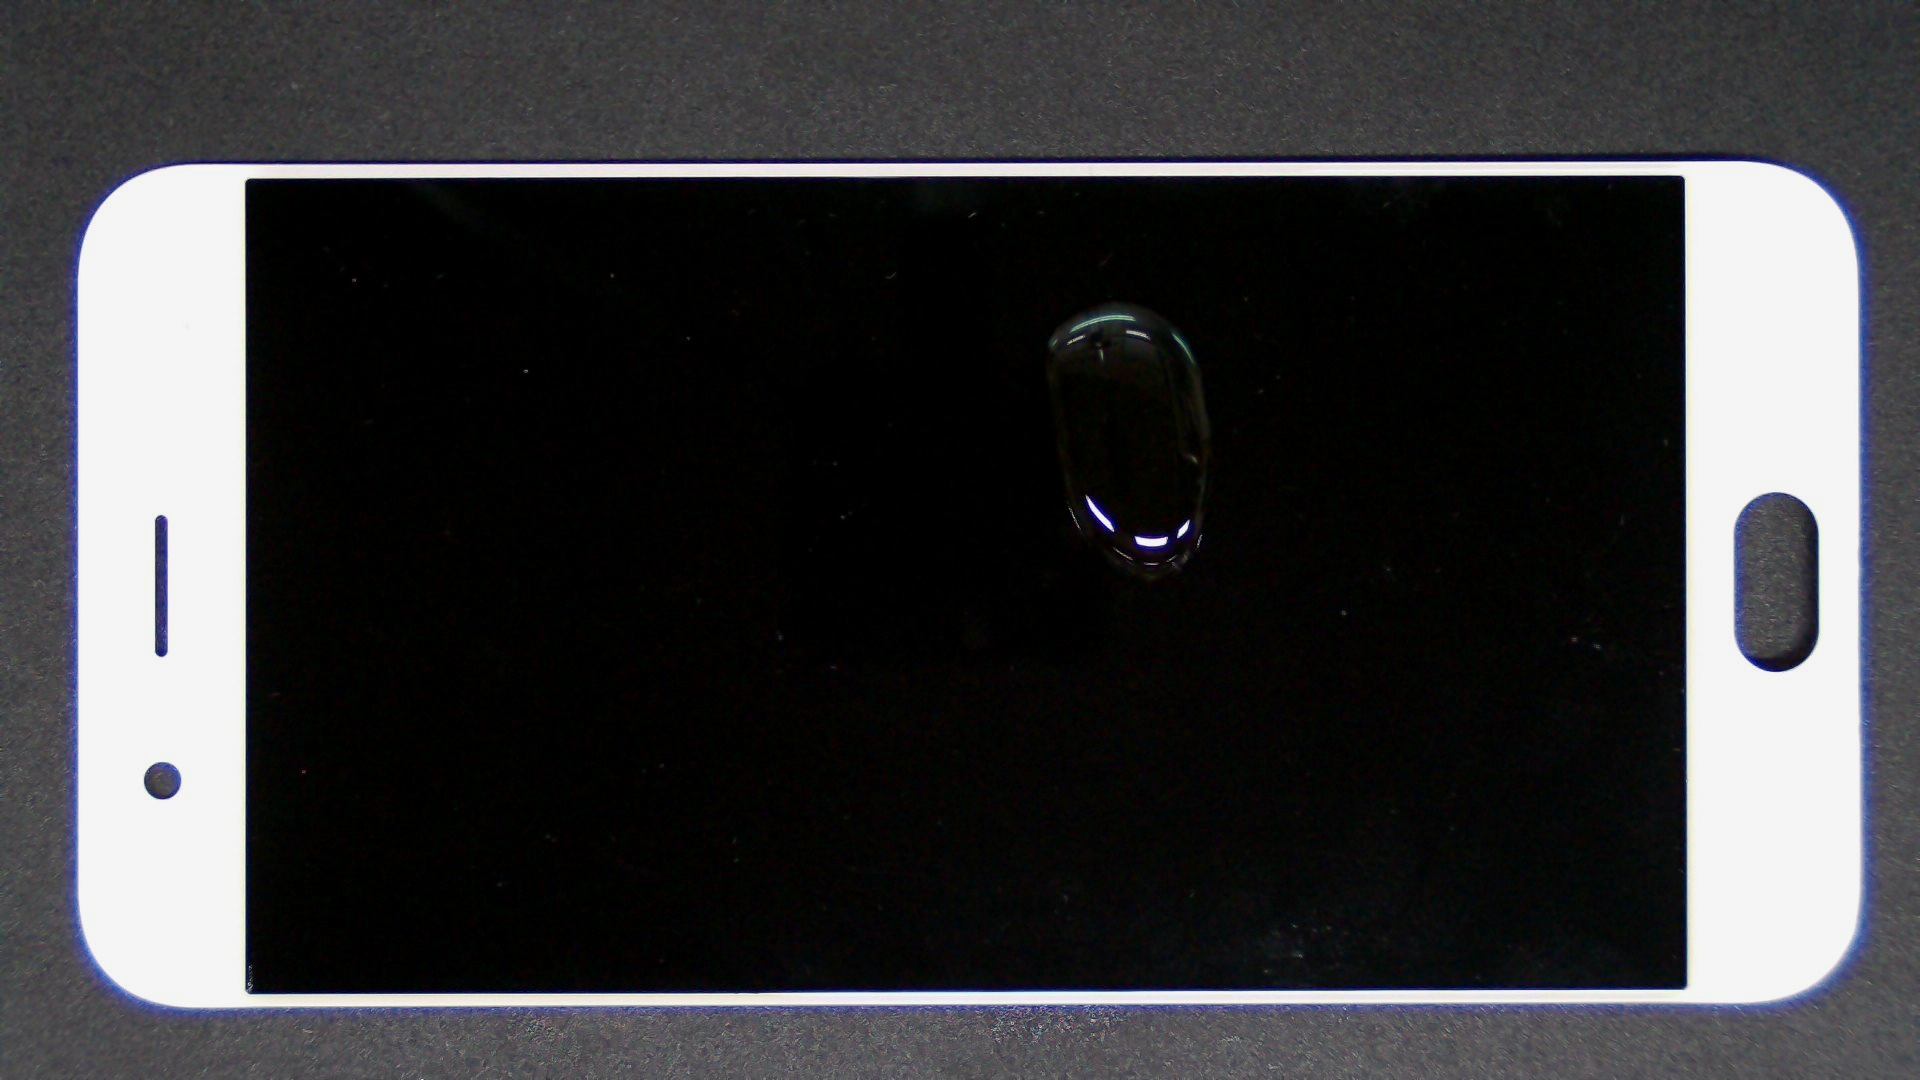oil: (556, 150, 1665, 454)
